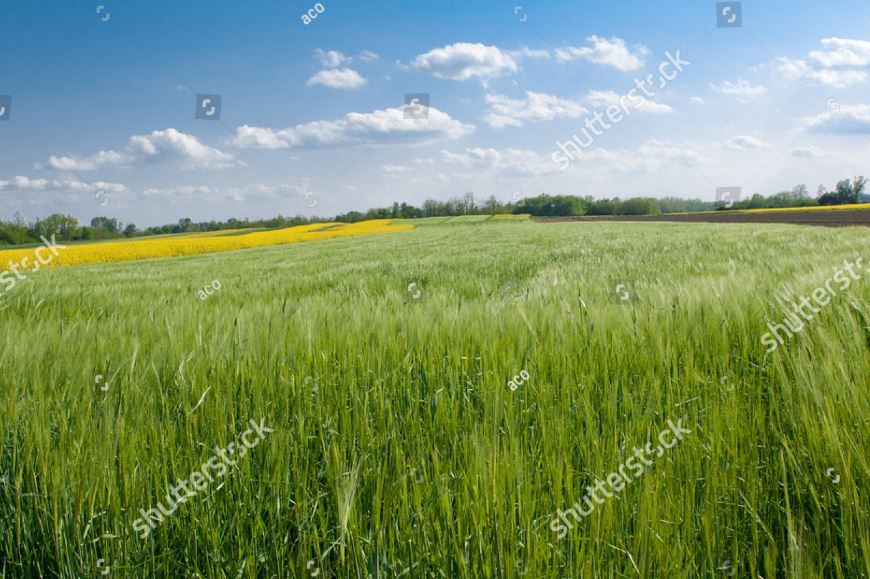Wheat: (318, 319, 748, 555)
